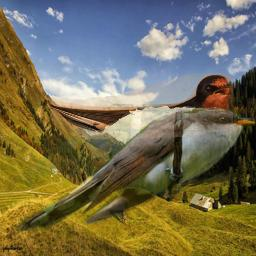Cuckoo: (13, 104, 255, 231)
Swallow: (50, 73, 233, 139)
